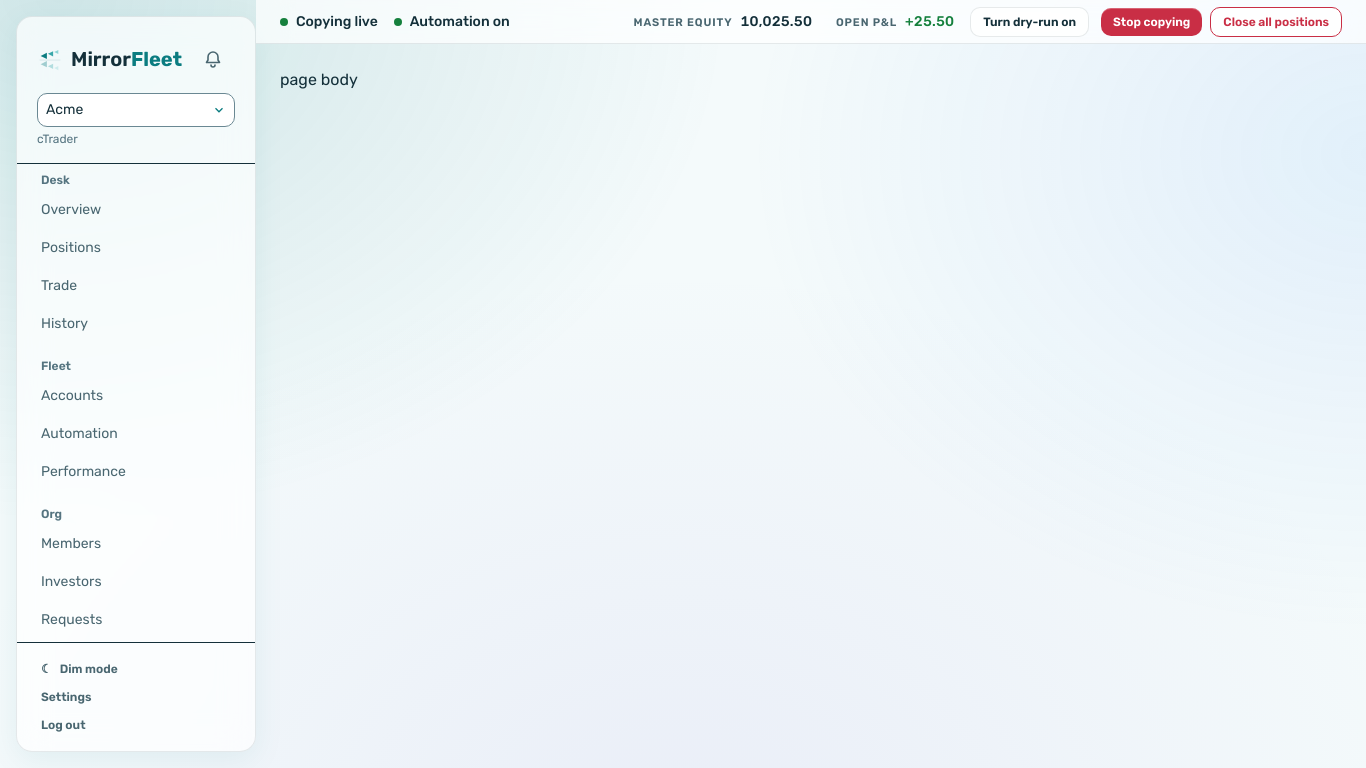
Scenario: the close-all dialog only counts accounts the copier would actually flatten
The width and height of the screenshot is (1366, 768).
Step 1. Click the button "Close all positions" → (1276, 22), box [1210,6,1342,36]
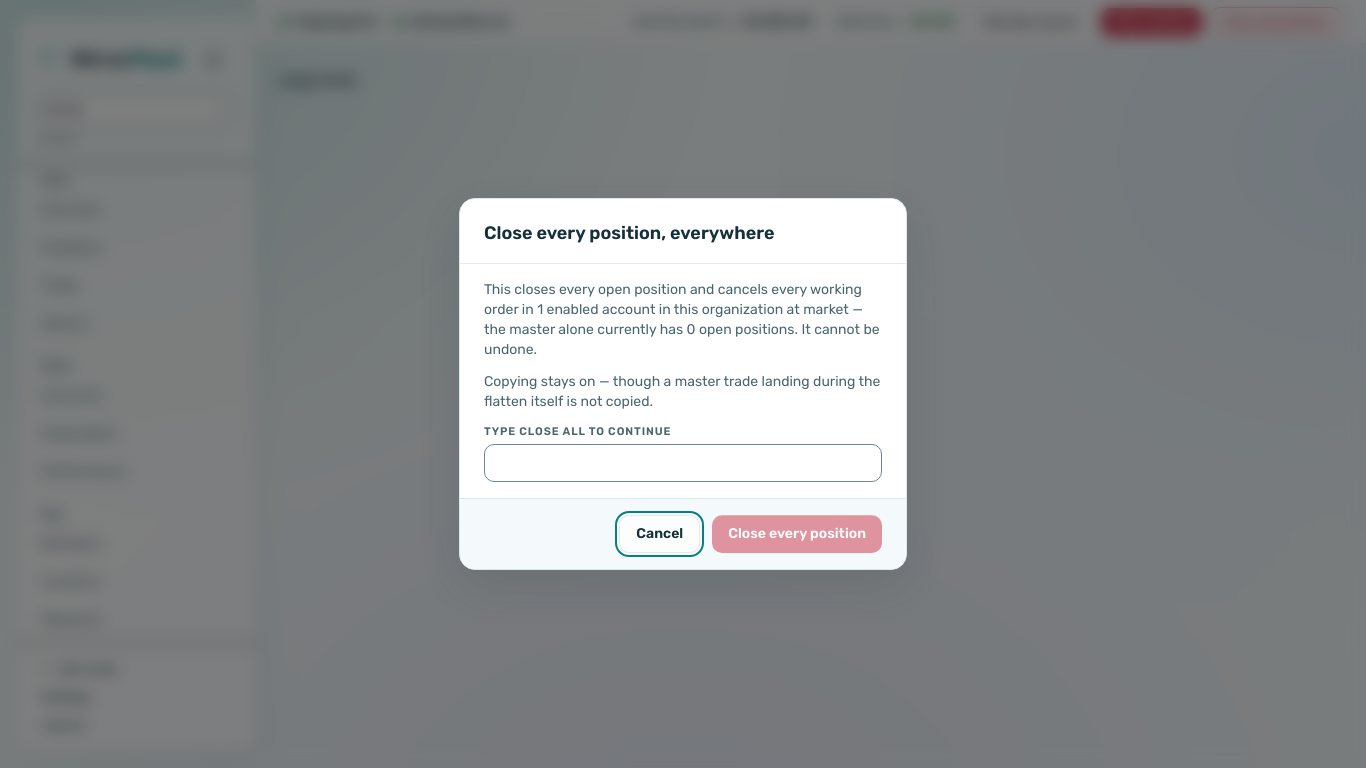
Expected: the text "1 enabled account" is shown, [537,301,655,318]
